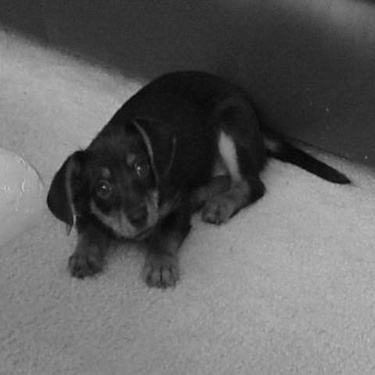dog: (39, 56, 365, 298)
